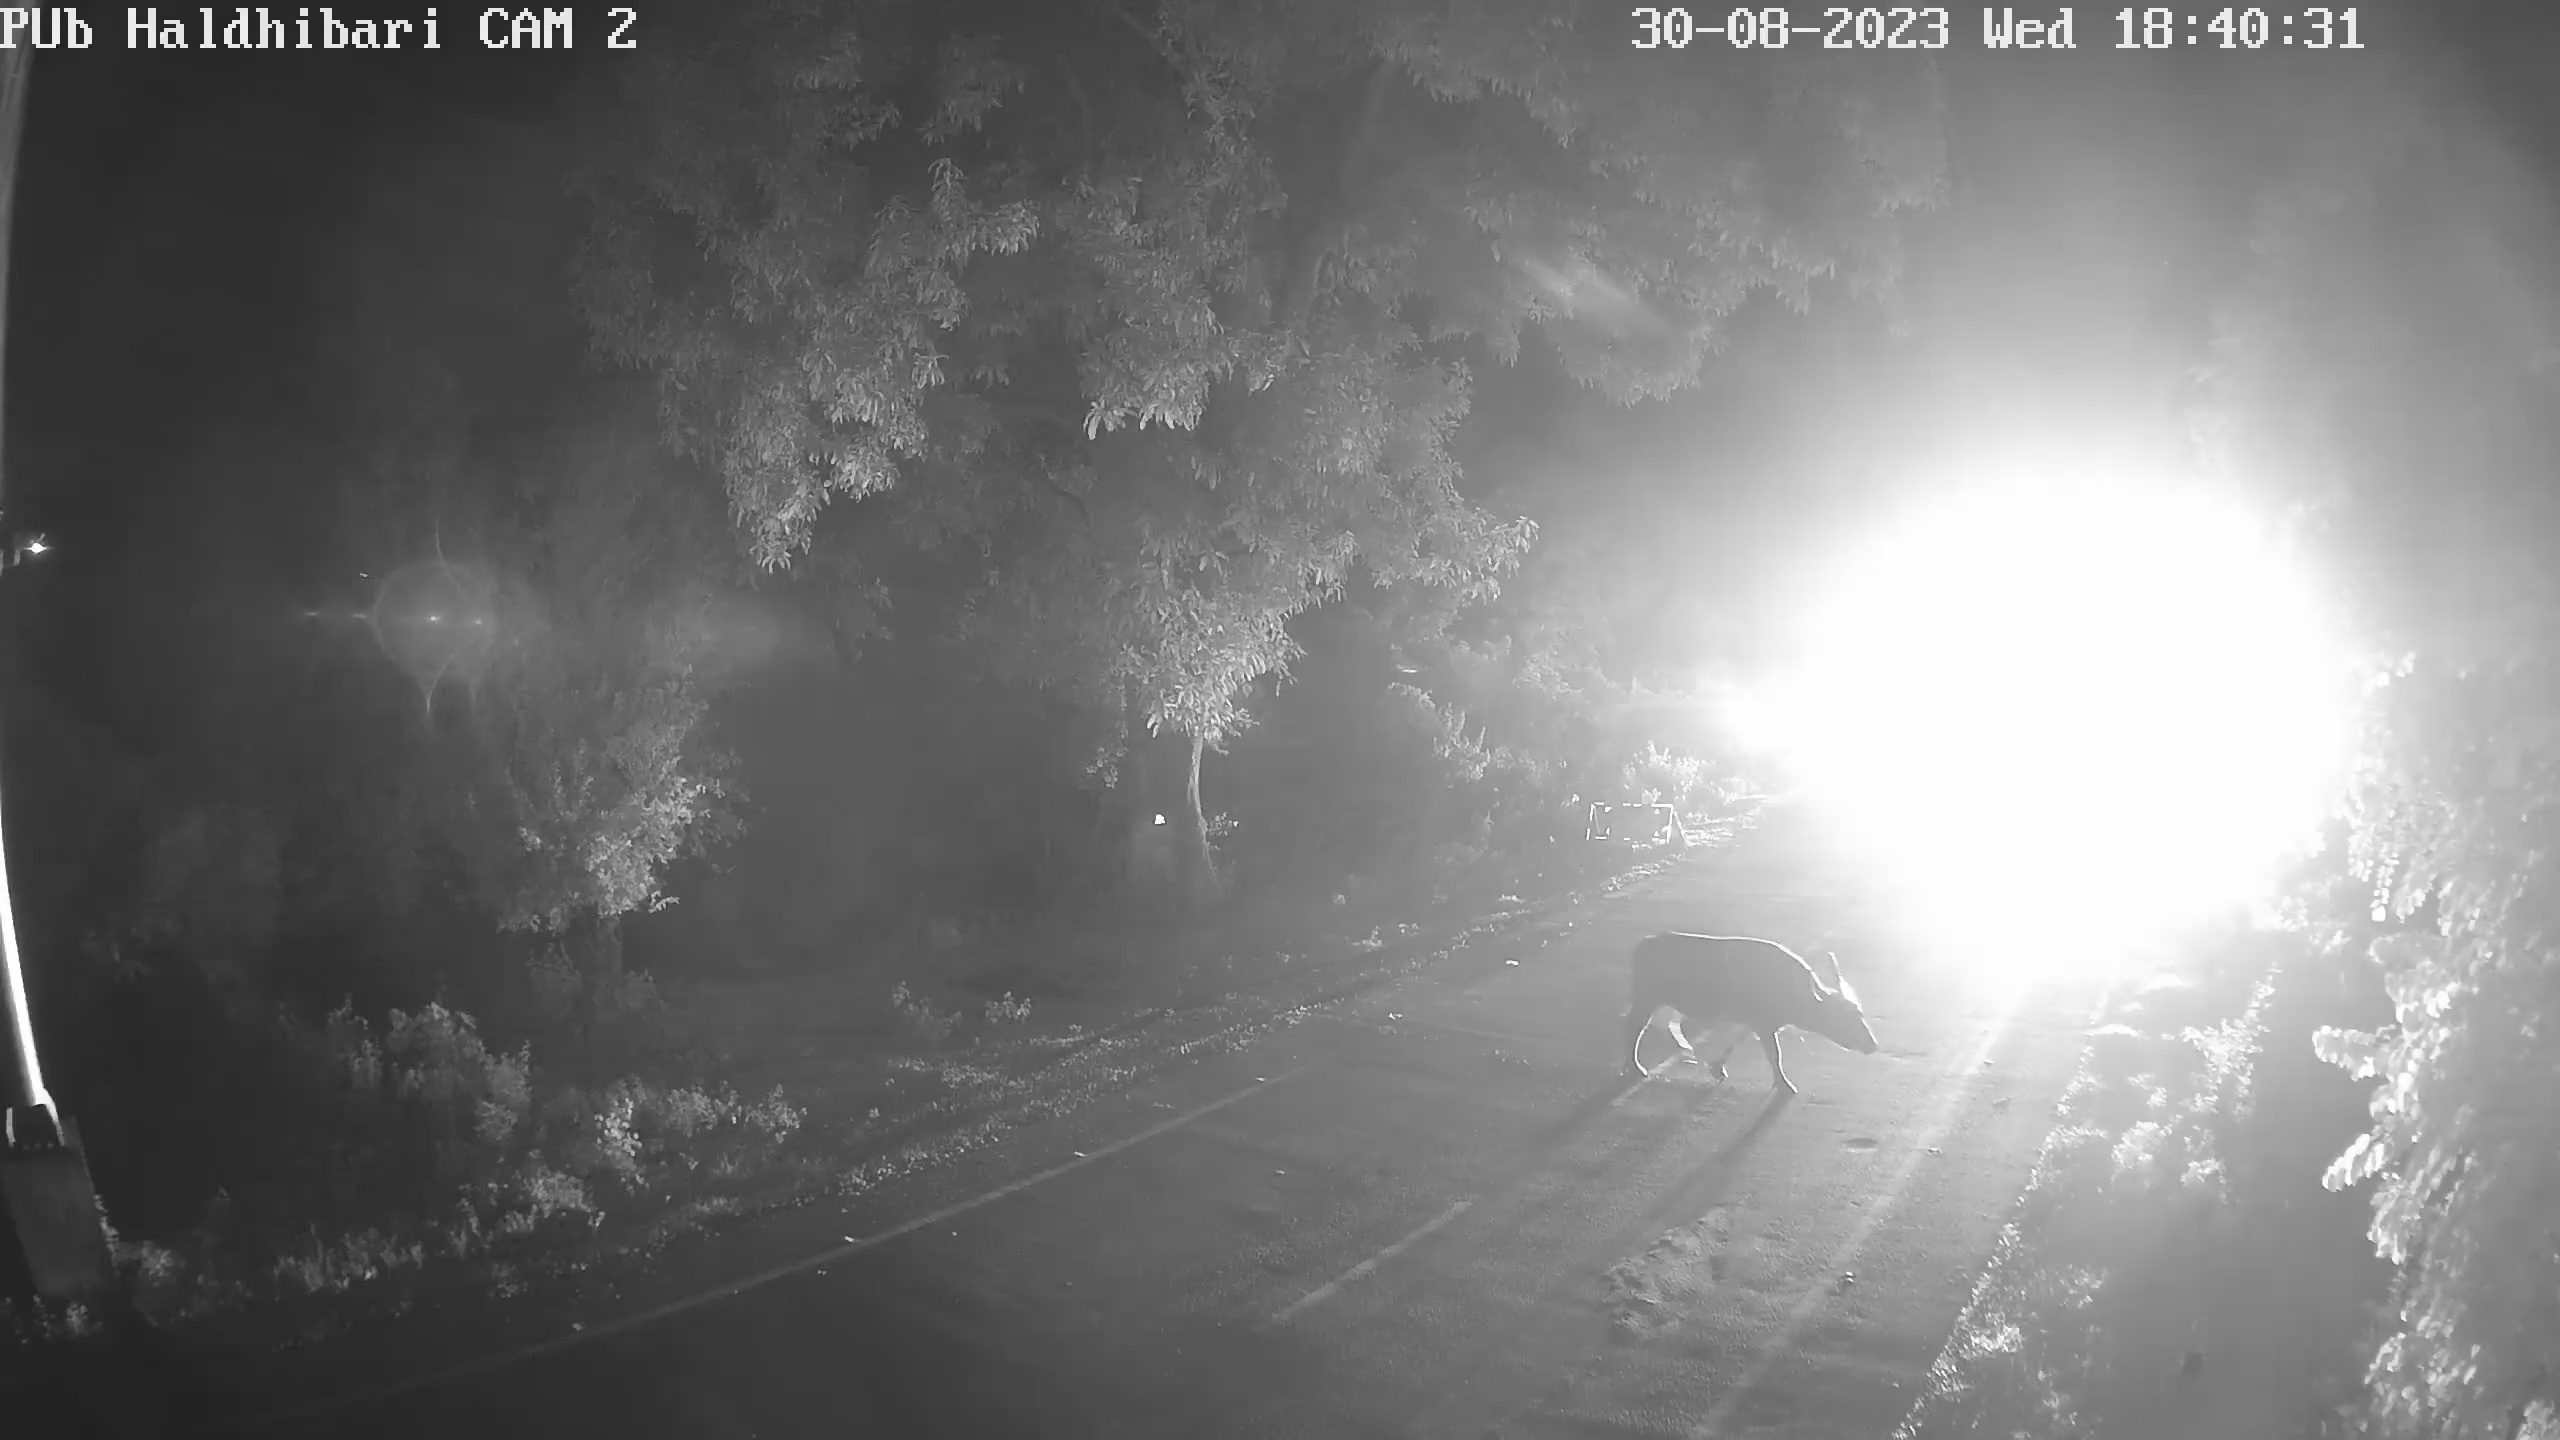buffaloes: (1635, 770, 1885, 1178)
